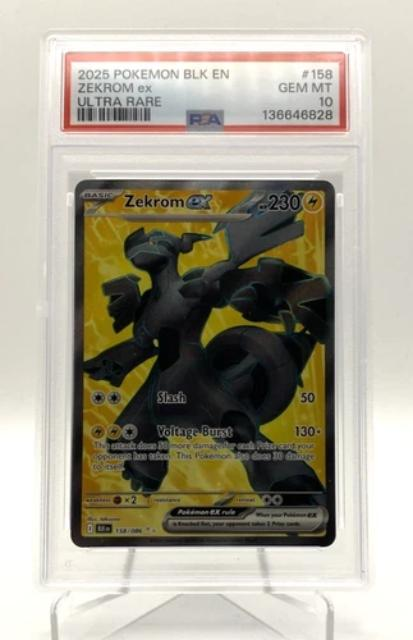Card: (64, 177, 338, 550)
Name: (119, 189, 216, 212)
